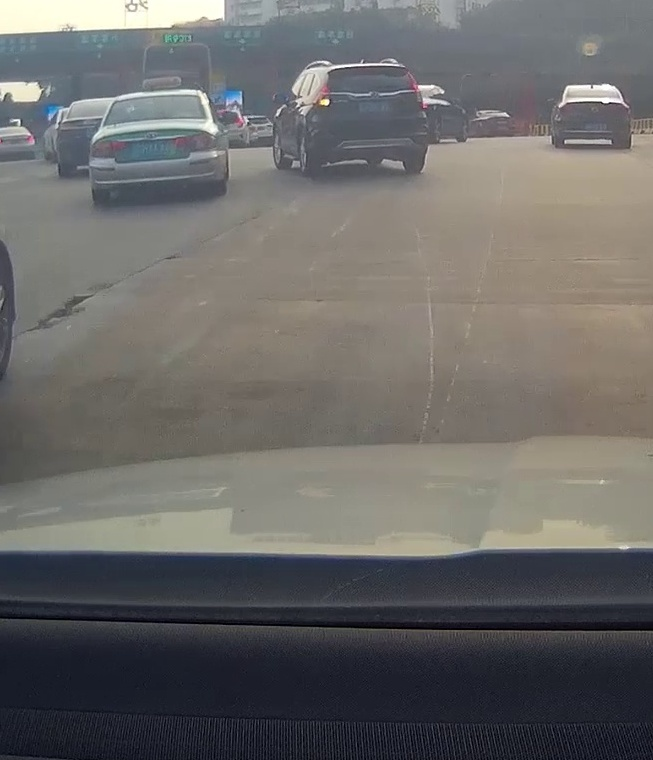L_light: (92, 139, 130, 157), (311, 84, 332, 106)
R_light: (174, 131, 218, 152), (412, 81, 424, 104)
T_light: (149, 97, 167, 100), (358, 66, 376, 69)
day-left: (307, 61, 429, 176)
day-no: (89, 88, 226, 204)
